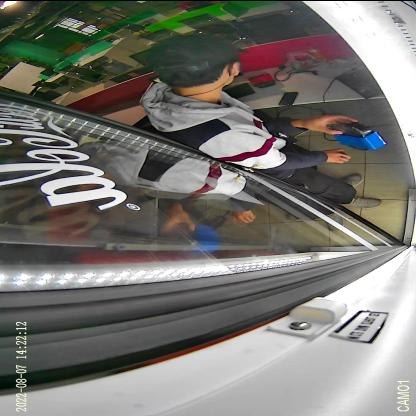red: (333, 121, 386, 151)
